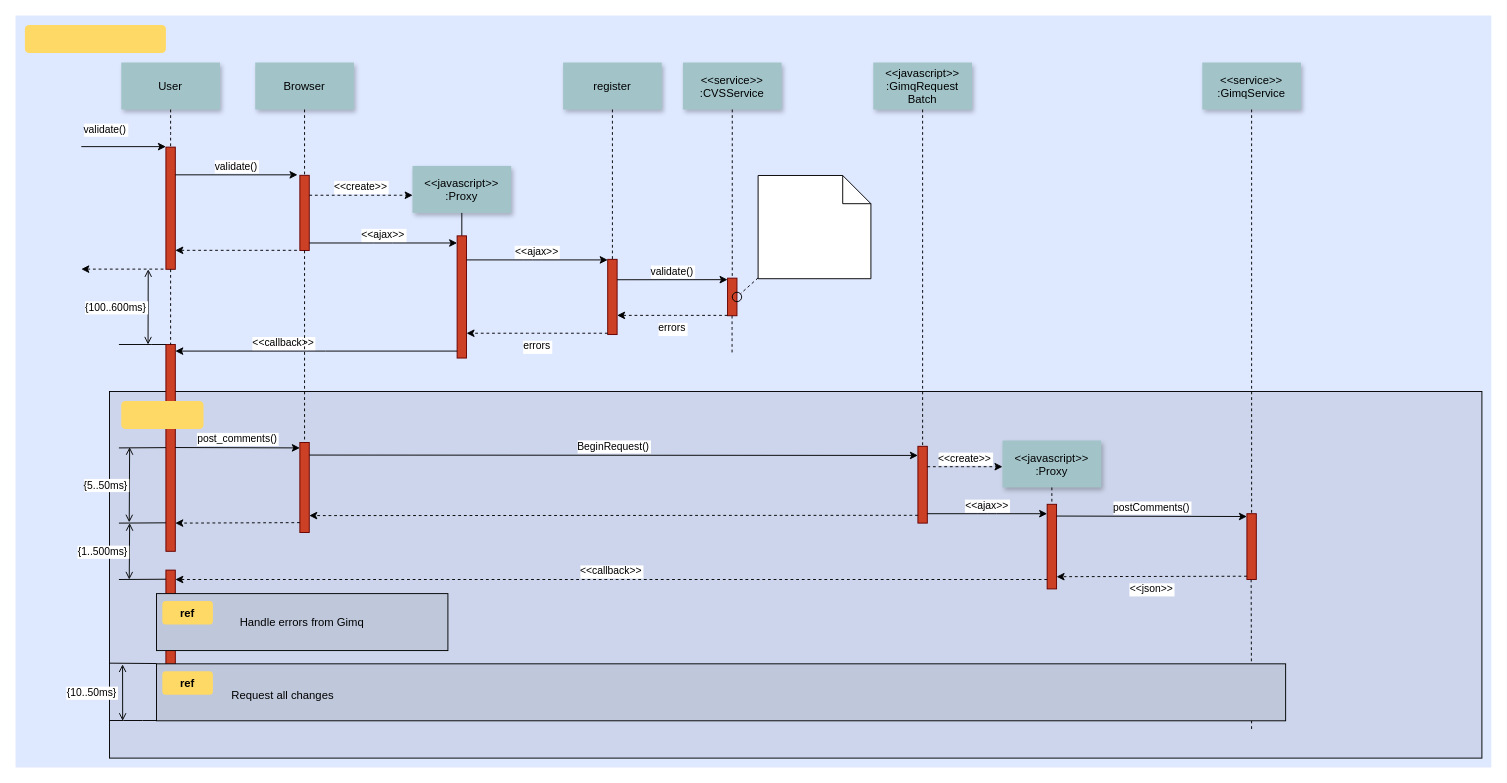
Image size: 1507x783. Some labels were removed from this diagram. The centre of each missing label's shape, as x and y in pixels:
"- user validation - password check" belongs at point 814,227.
"opt" belongs at point 162,414.
"rt submit_changes" belongs at point 94,38.
